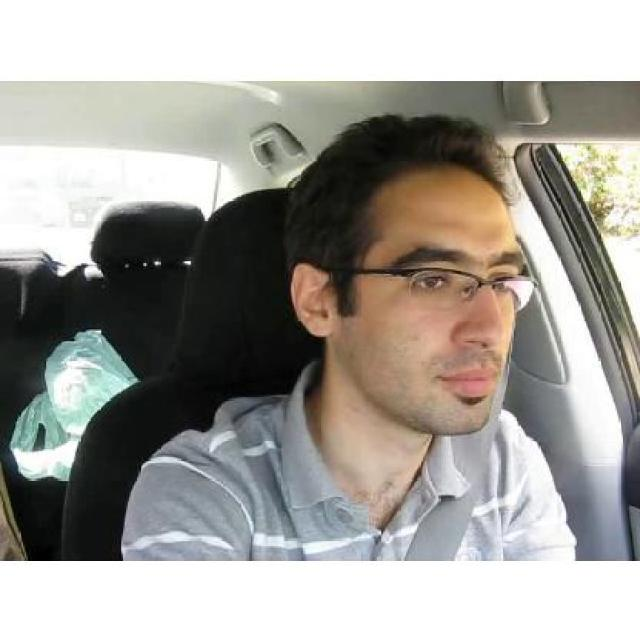attentif: (288, 111, 537, 434)
